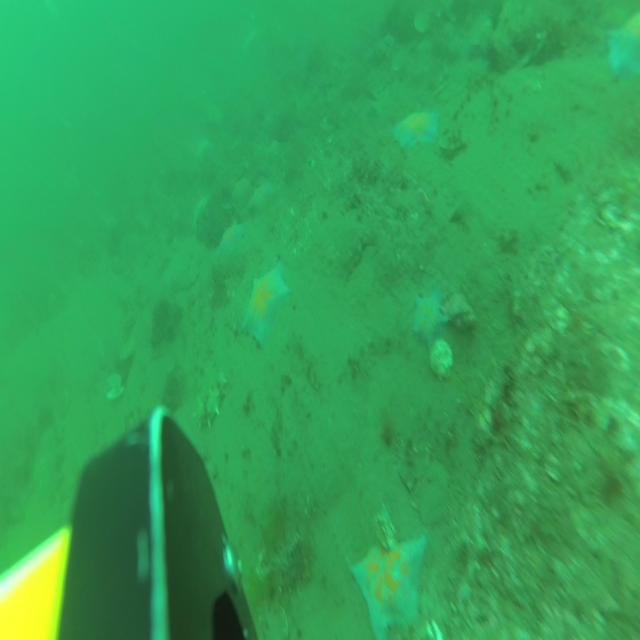echinus: (487, 42, 508, 74), (489, 6, 509, 34)
holothurian: (195, 374, 227, 428)
scallop: (428, 338, 455, 378), (107, 376, 125, 403), (122, 337, 136, 360)
starfish: (350, 502, 426, 640), (241, 258, 291, 350), (607, 11, 640, 84), (414, 289, 446, 353), (394, 110, 440, 154), (216, 223, 243, 262), (250, 181, 274, 214), (234, 178, 254, 212)
